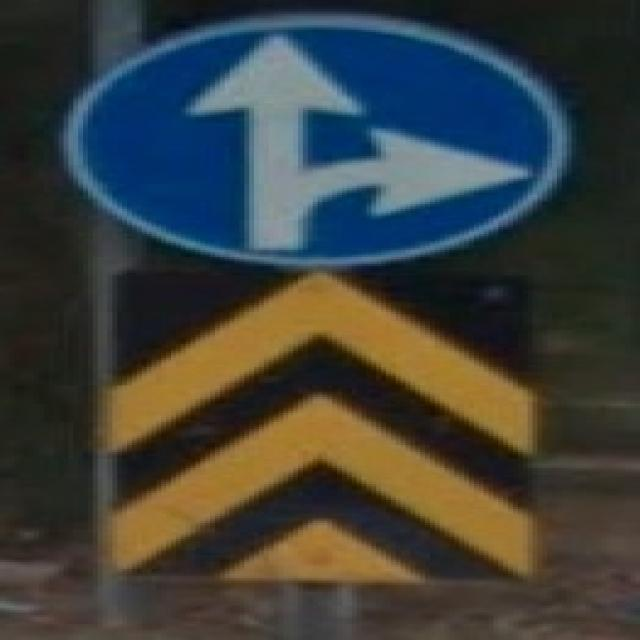Straight or Right: (57, 15, 565, 267)
